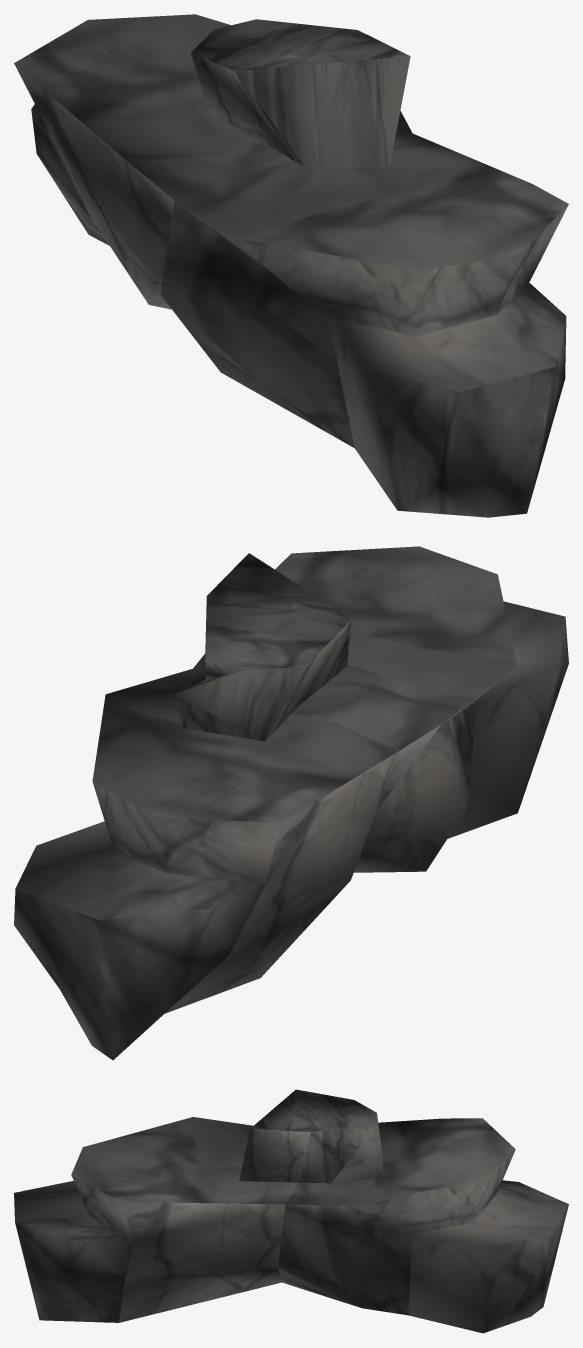
The model's file is M_gake1.fbx.
The picture shows the model from 3 angles, top to bottom: view 1: azimuth 30°, elevation 25°; view 2: azimuth 150°, elevation 25°; view 3: azimuth 270°, elevation 25°; orthographic projection. The views are drawn at different scales.
Parts seen in each view (by area): view 1: M_gake1; view 2: M_gake1; view 3: M_gake1.
Boxes of the visible parts, box(x1,y1,x2,y2) form: M_gake1: box(14, 14, 568, 517); M_gake1: box(14, 546, 568, 1060); M_gake1: box(14, 1089, 568, 1333).
Bounding box in the file's own units: 2150 × 2272 × 5523.
Materials: 1 (1 with a texture image).
